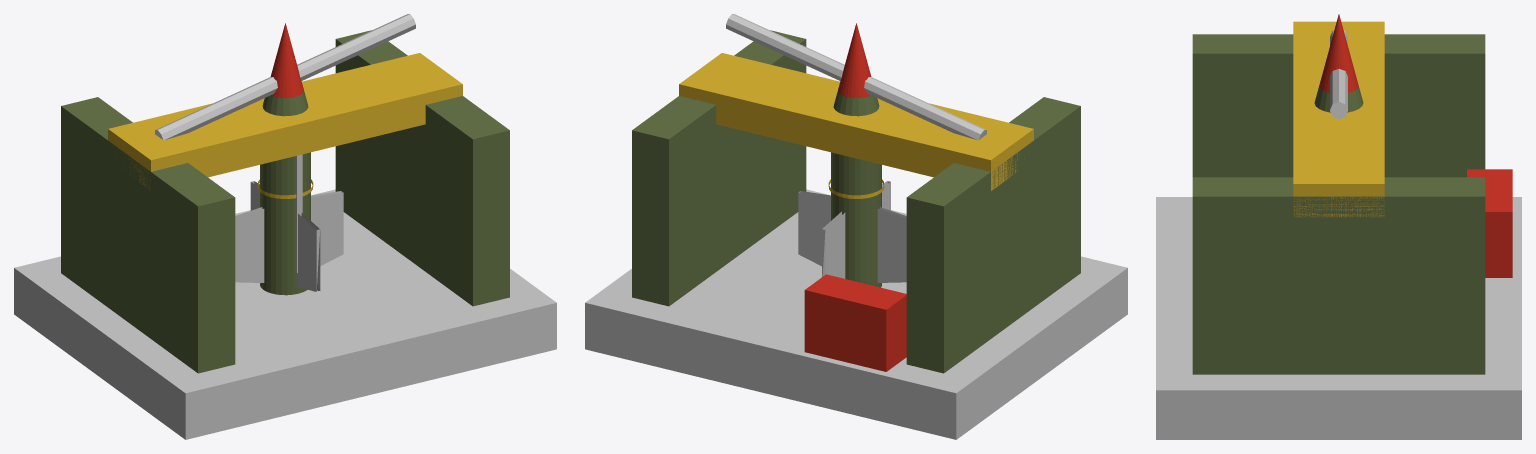
File: missile_assembly.obj
The picture shows the model from 3 angles, left to right: view 1: azimuth 30°, elevation 25°; view 2: azimuth 150°, elevation 25°; view 3: azimuth 270°, elevation 25°; orthographic projection. The views are drawn at different scales.
Visible parts, largest first — view 1: missile_assembly; view 2: missile_assembly; view 3: missile_assembly.
Part boxes in pixels (left/top/right/bottom): missile_assembly: left=14, top=14, right=556, bottom=439; missile_assembly: left=585, top=14, right=1127, bottom=439; missile_assembly: left=1156, top=14, right=1521, bottom=439.
Bounding box in the file's own units: 1 × 0.7944 × 0.8.
